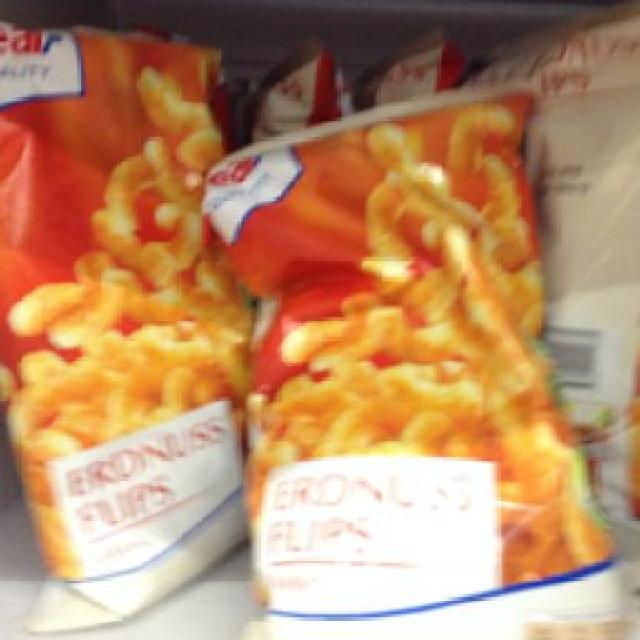Chips: (202, 88, 608, 638), (0, 17, 252, 626)
